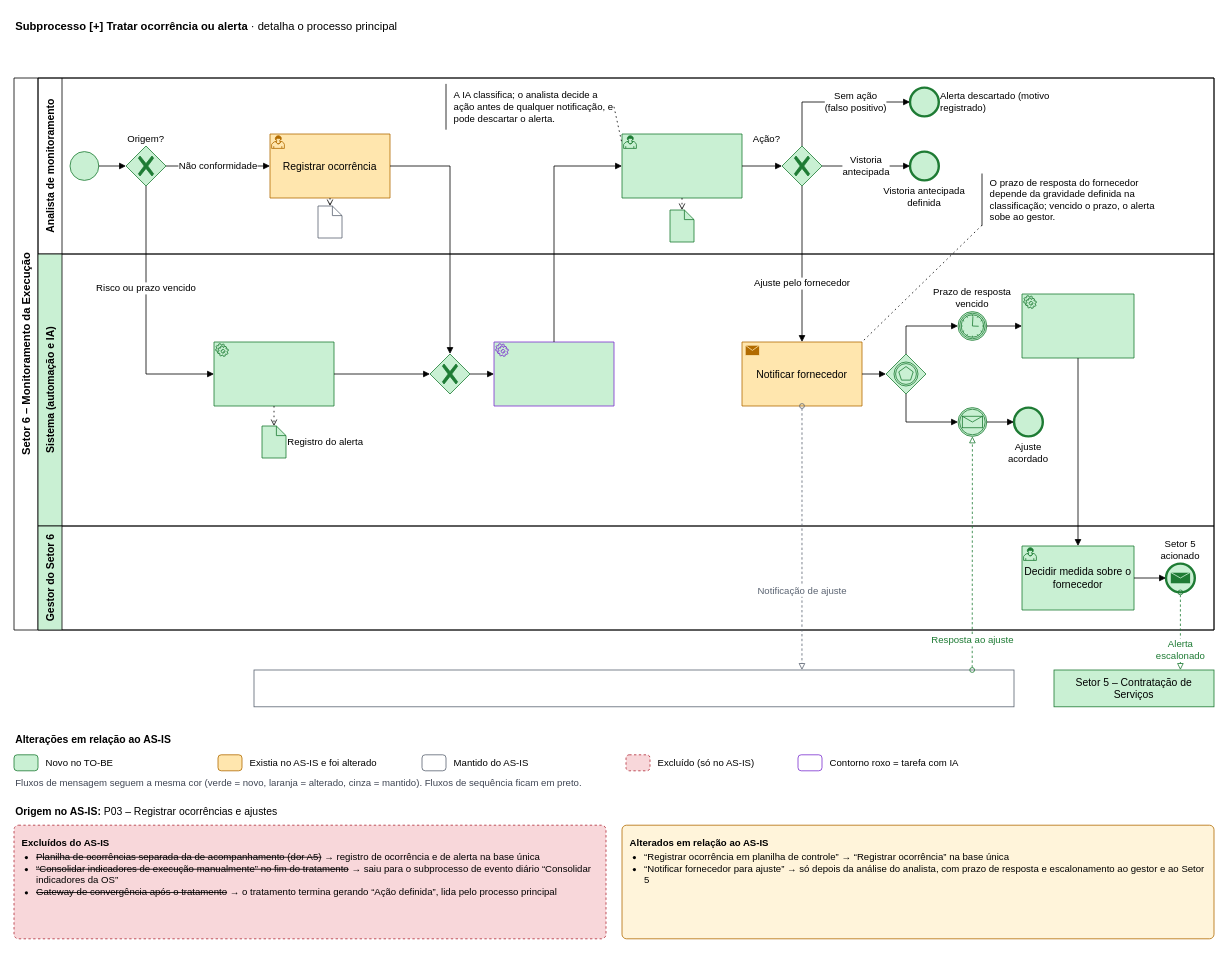
This 1228x953 diagram has some shape labels left out. Here are the shapes that lost their labels. From the top down, the centre of each, then its label:
point 84,165: Início
point 681,165: Analisar alerta
point 329,221: Registro de ocorrência
point 681,225: Ação definida
point 1077,325: Escalonar alerta ao gestor
point 273,373: Registrar alerta
point 553,373: Classificar gravidade
point 972,421: Resposta do fornecedor recebida
point 633,688: Fornecedor contratado
